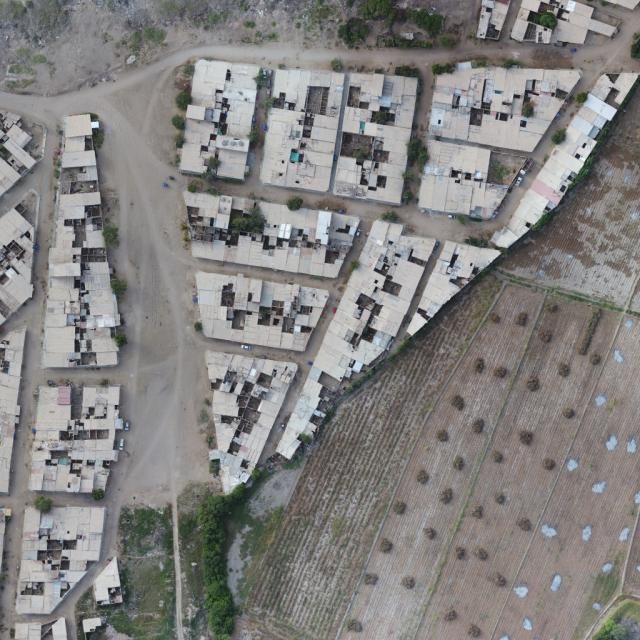building: (272, 215, 439, 480), (174, 188, 362, 283), (187, 350, 299, 501), (427, 60, 582, 155), (381, 220, 500, 336), (28, 378, 127, 499), (332, 71, 419, 205), (259, 64, 345, 193), (16, 501, 106, 621), (178, 57, 261, 181), (416, 139, 514, 224), (91, 557, 123, 606), (514, 197, 545, 226), (514, 199, 544, 227), (51, 617, 68, 640), (82, 617, 102, 633), (258, 306, 273, 326), (80, 309, 86, 315)
greenland: (177, 481, 211, 639), (116, 501, 173, 557), (334, 12, 373, 51)
unmetalled_road: (0, 42, 345, 639), (249, 156, 548, 256), (234, 237, 386, 372), (261, 377, 304, 459), (170, 496, 184, 640)
